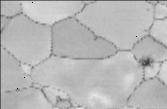good_void: (137, 55, 154, 69)
